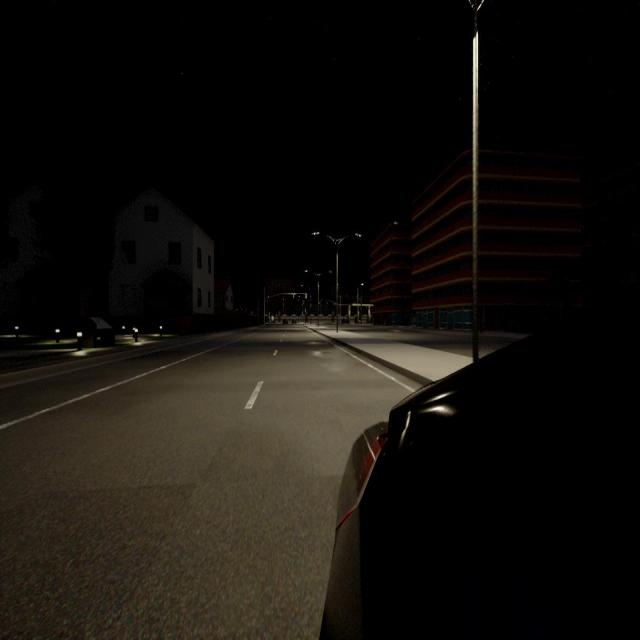Vehicle: (323, 331, 639, 638), (342, 319, 348, 323), (283, 320, 288, 324), (292, 319, 296, 324)
traffic_light: (318, 302, 320, 304), (306, 294, 307, 298), (293, 294, 294, 298), (327, 302, 328, 304)
